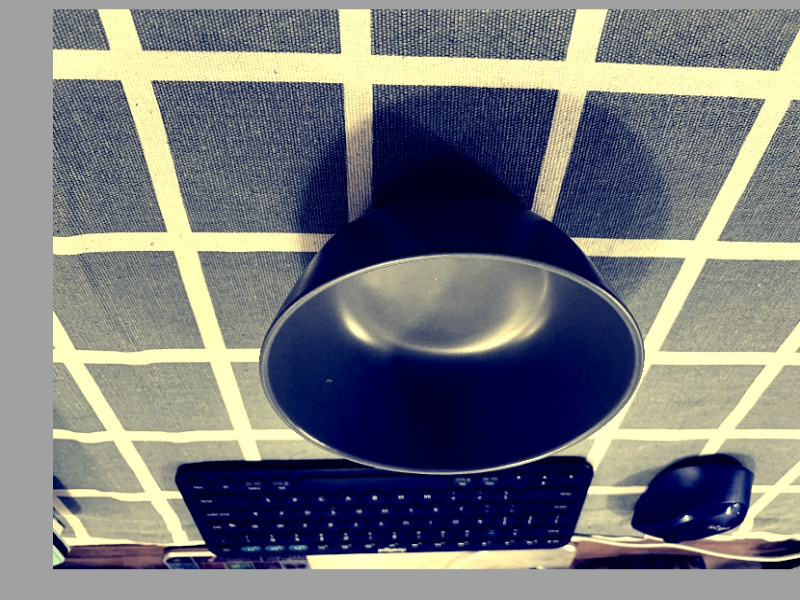bowl_big: (253, 187, 653, 478)
